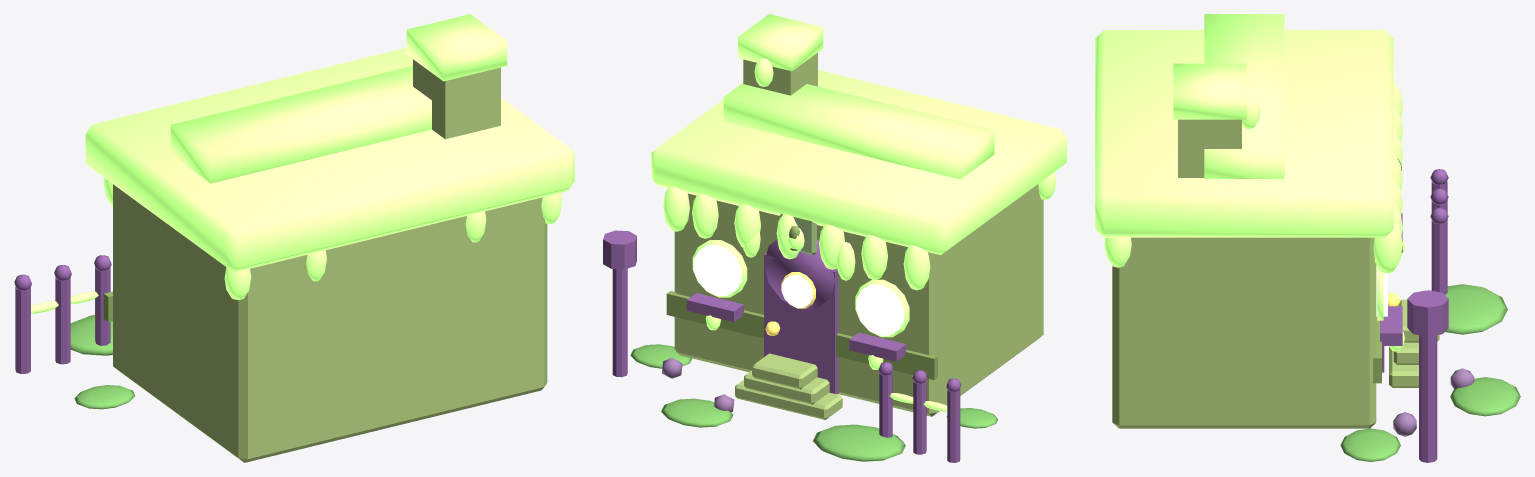
Rendered from SlimeHouse_Base.fbx.
The picture shows the model from 3 angles, left to right: view 1: azimuth 30°, elevation 25°; view 2: azimuth 150°, elevation 25°; view 3: azimuth 270°, elevation 25°; orthographic projection. The views are drawn at different scales.
Parts seen in each view (by area): view 1: SlimeHouse_Base; view 2: SlimeHouse_Base; view 3: SlimeHouse_Base.
Part boxes in pixels (x1,y1,x2,y2): SlimeHouse_Base: [14, 14, 574, 462]; SlimeHouse_Base: [603, 14, 1066, 462]; SlimeHouse_Base: [1095, 14, 1520, 462].
Size of the model in its own units: 2.13 by 1.66 by 1.85.
